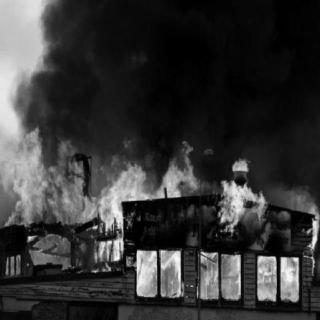Fire: (12, 127, 318, 309)
